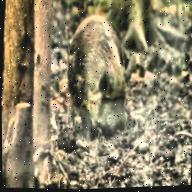boar: (57, 7, 140, 153)
